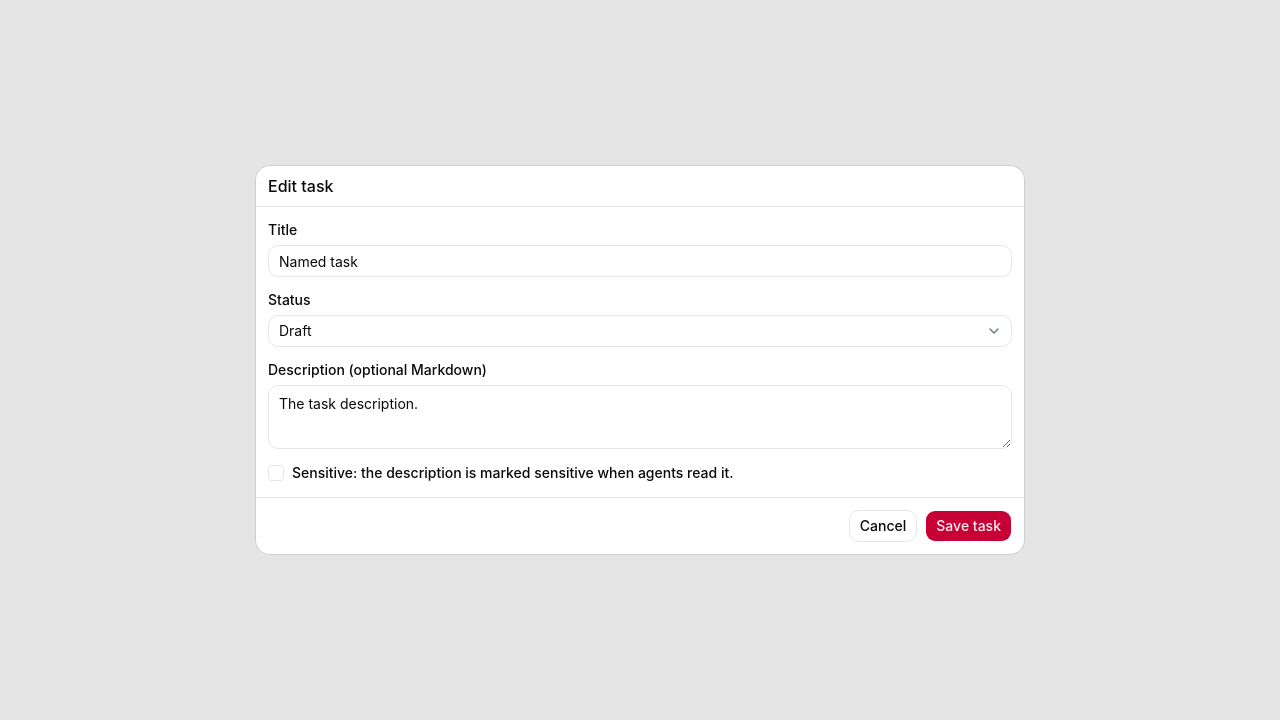
Test case: task resource dialog ownership › submits the edit form through its explicit dialog footer
Step 1. Replace the text in the field with id "task-title" with "Saved name" → coordinates (640, 261), box [268,245,1012,277]
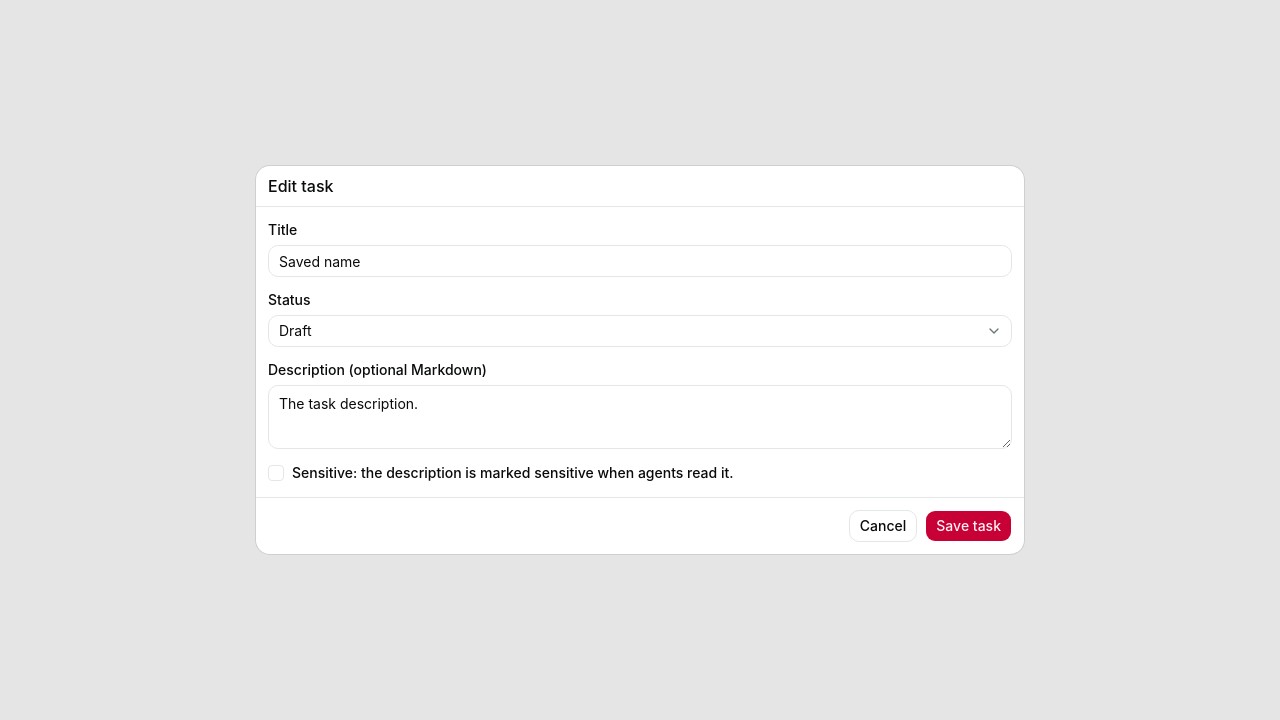
Step 2. Click the button "Save task" → coordinates (969, 526), box [925,510,1012,542]
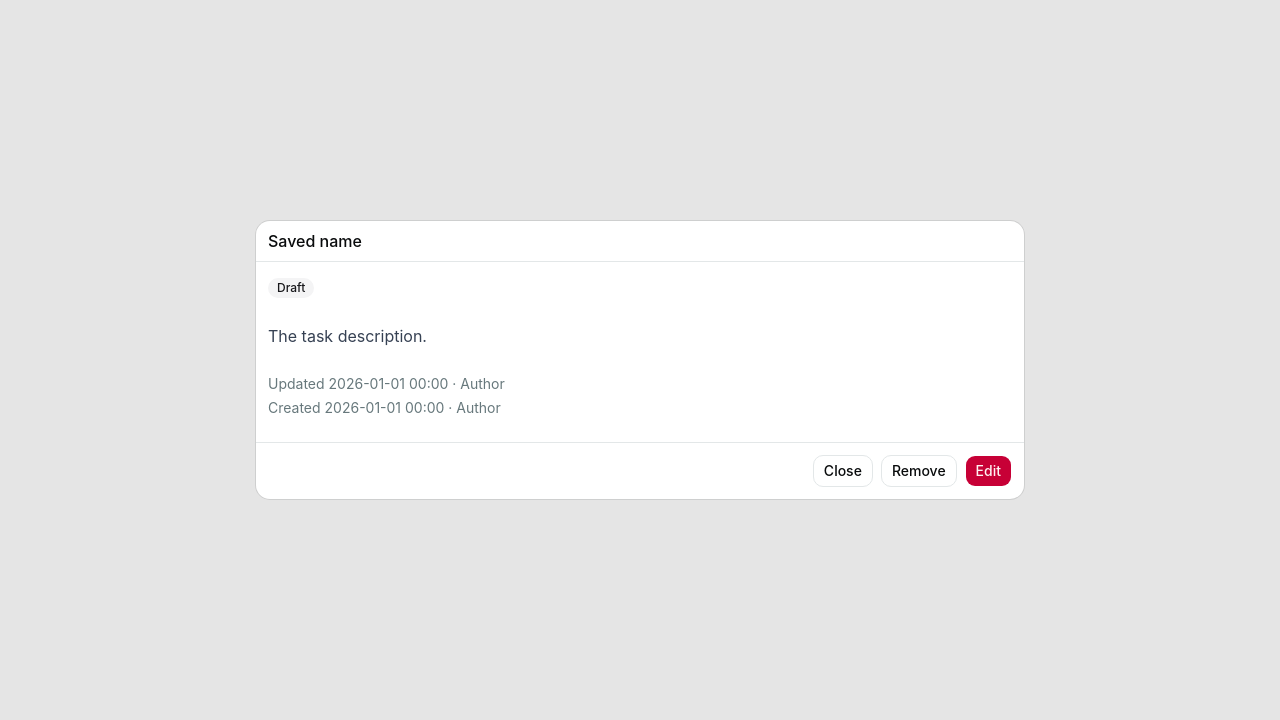
Check: the heading "Saved name" is shown, box [268,231,362,251]
